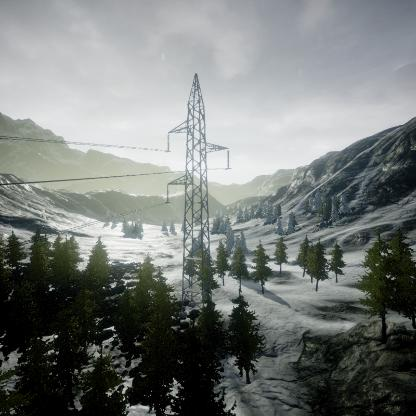tower: (163, 67, 233, 316)
